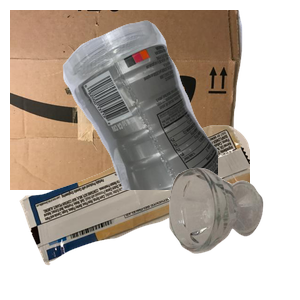cardboard: (10, 10, 245, 190)
glass: (166, 165, 300, 300)
plastic: (60, 18, 300, 198)
trash: (17, 123, 257, 300)
